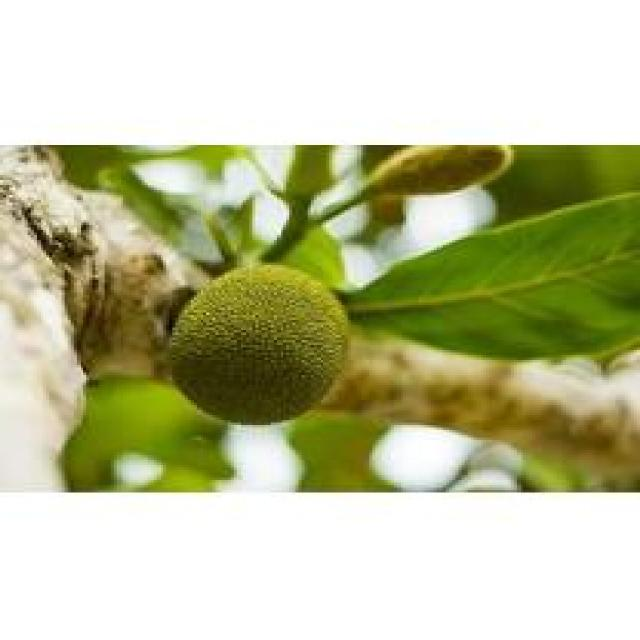Fruit: (160, 252, 354, 432)
